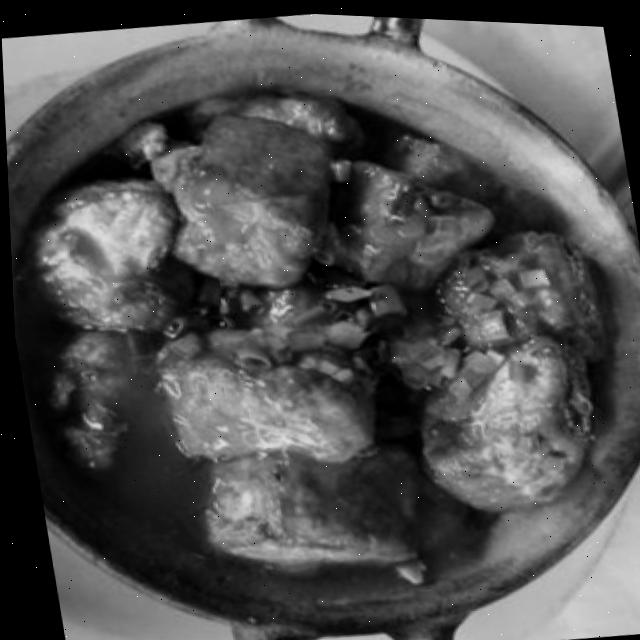豆腐料理: (2, 45, 640, 640)
